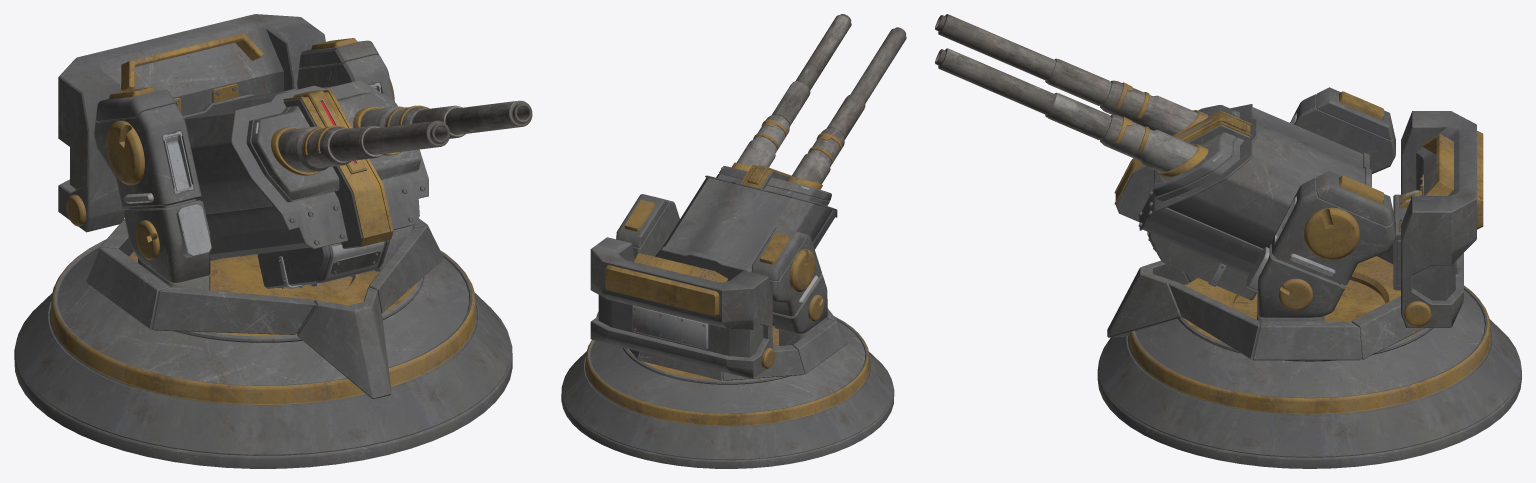
The model's file is KB3D_FTW_PropTurret_B_grp.glb.
3 views of the same model, side by side, from view 1: azimuth 30°, elevation 25°; view 2: azimuth 150°, elevation 25°; view 3: azimuth 270°, elevation 25° (orthographic). The views are drawn at different scales.
Parts seen in each view (by area): view 1: KB3D_FTW_PropTurret_B_Main; view 2: KB3D_FTW_PropTurret_B_Main; view 3: KB3D_FTW_PropTurret_B_Main.
Part boxes in pixels (x1,y1,x2,y2): KB3D_FTW_PropTurret_B_Main: [14, 14, 532, 468]; KB3D_FTW_PropTurret_B_Main: [561, 14, 906, 468]; KB3D_FTW_PropTurret_B_Main: [935, 14, 1521, 468].
Size of the model in its own units: 2.97 by 2.68 by 4.11.
6 materials, 6 textured.
